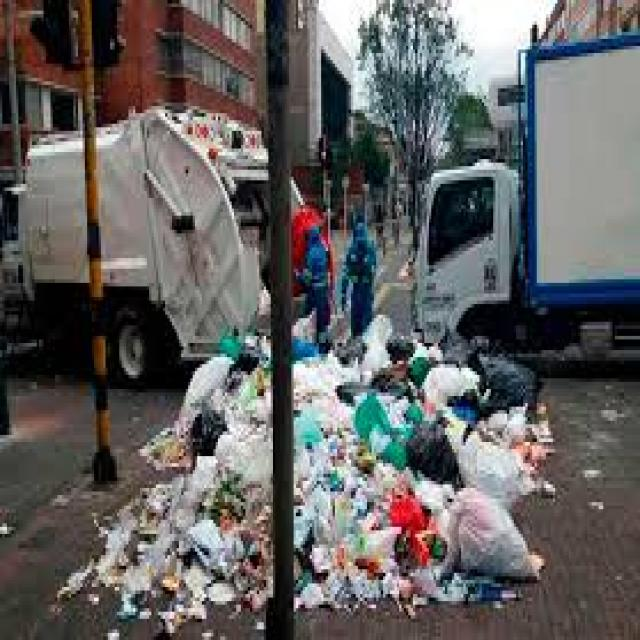garbage: (99, 306, 552, 636)
